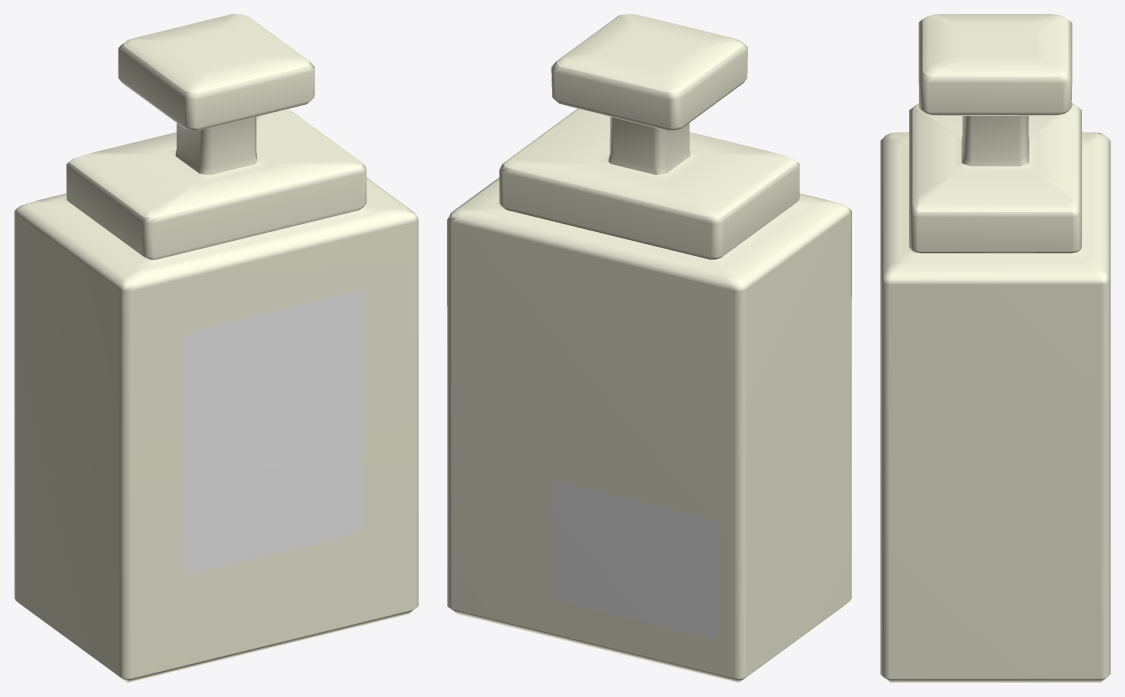
File: Soap_bottle2.fbx
3 views of the same model, side by side, from view 1: azimuth 30°, elevation 25°; view 2: azimuth 150°, elevation 25°; view 3: azimuth 270°, elevation 25° (orthographic).
Parts seen in each view (by area): view 1: Soap_bottle2; view 2: Soap_bottle2; view 3: Soap_bottle2.
Part boxes in pixels (x1,y1,x2,y2): Soap_bottle2: [14, 14, 418, 682]; Soap_bottle2: [447, 14, 851, 682]; Soap_bottle2: [880, 14, 1110, 682].
Bounding box in the file's own units: 4.07 × 7.33 × 2.68.
1 material, 1 textured.
